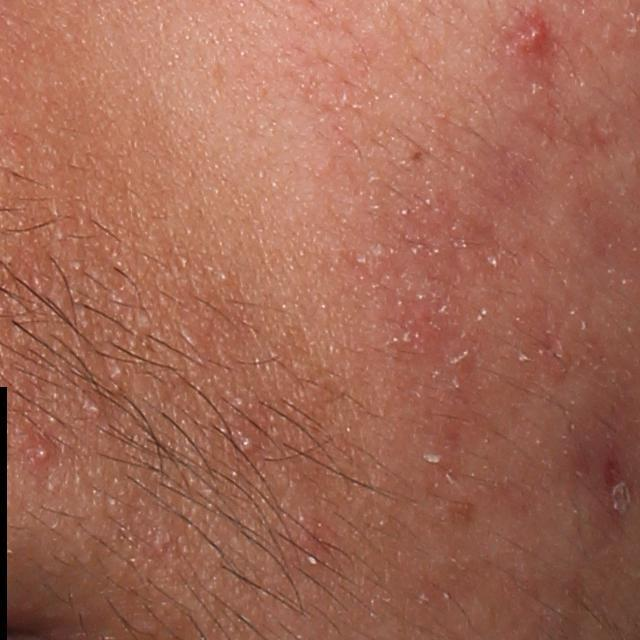comedo: (236, 433, 260, 459), (86, 401, 104, 419), (67, 257, 84, 276), (112, 364, 126, 380)
papule: (519, 15, 557, 61), (24, 439, 56, 473)
